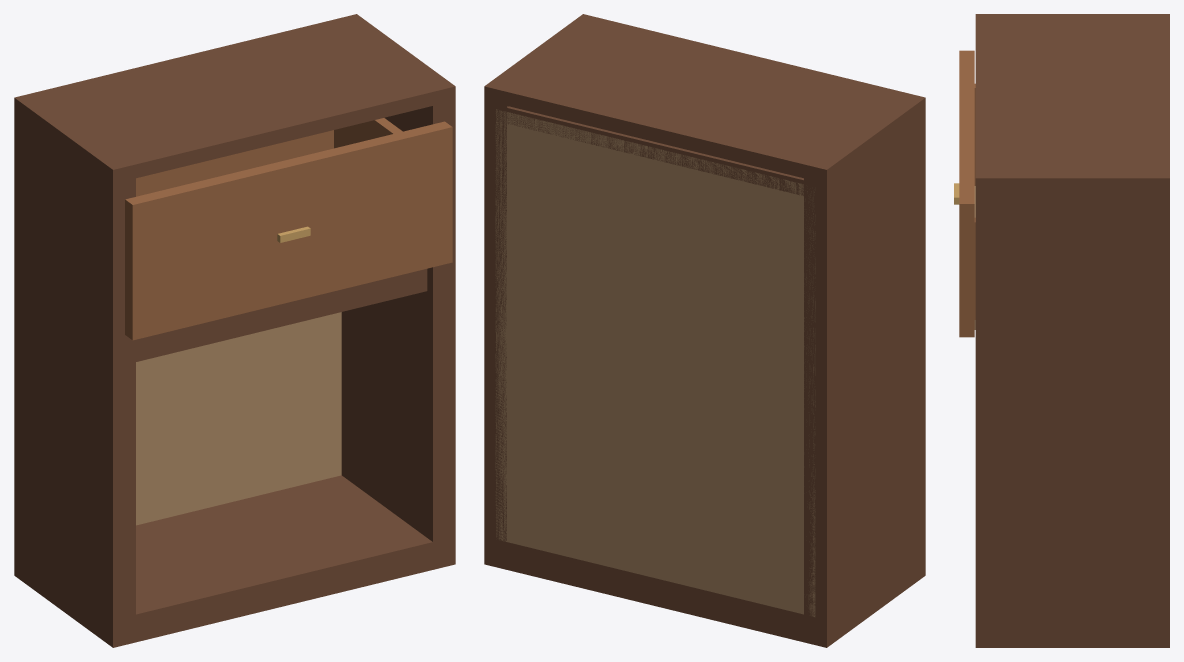
Rendered from variant-flat-panel.glb.
The picture shows the model from 3 angles, left to right: view 1: azimuth 30°, elevation 25°; view 2: azimuth 150°, elevation 25°; view 3: azimuth 270°, elevation 25°; orthographic projection.
Visible parts, largest first — view 1: cabinet-side-left, drawer-front, cabinet-top, cabinet-bottom, cabinet-inner-back, cabinet-side-right, cabinet-drawer-divider, drawer-back, drawer-right; view 2: cabinet-inner-back, cabinet-side-left, cabinet-top, cabinet-bottom, cabinet-side-right, cabinet-back-rail; view 3: cabinet-side-right, cabinet-top, drawer-front, cabinet-bottom.
Boxes of the visible parts, <box> form: cabinet-side-left: <box>14,110,135,627</box>; drawer-front: <box>125,121,452,340</box>; cabinet-top: <box>14,14,455,183</box>; cabinet-bottom: <box>14,475,455,647</box>; cabinet-inner-back: <box>136,312,341,525</box>; cabinet-side-right: <box>341,98,455,549</box>; cabinet-drawer-divider: <box>136,269,427,361</box>; drawer-back: <box>136,130,333,196</box>; drawer-right: <box>334,118,402,148</box>; cabinet-inner-back: <box>495,109,815,616</box>; cabinet-side-left: <box>804,110,925,625</box>; cabinet-top: <box>484,14,925,183</box>; cabinet-bottom: <box>484,538,925,647</box>; cabinet-side-right: <box>484,98,508,549</box>; cabinet-back-rail: <box>495,105,815,198</box>; cabinet-side-right: <box>975,190,1169,628</box>; cabinet-top: <box>975,14,1169,191</box>; drawer-front: <box>959,50,974,337</box>; cabinet-bottom: <box>975,621,1169,647</box>.
Bounding box in the file's own units: 0.9 × 1.2 × 0.5.
